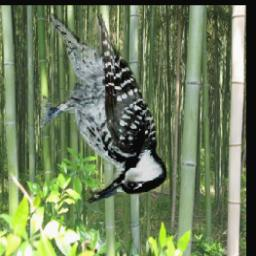Woodpecker: (40, 14, 166, 206)
